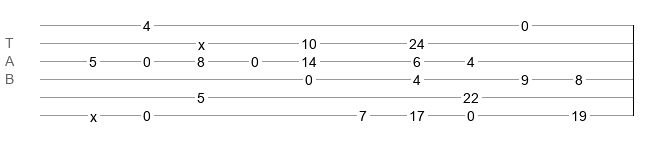0: (143, 108, 151, 118), (143, 54, 151, 64), (251, 54, 259, 64), (305, 72, 313, 82), (467, 108, 475, 118), (521, 18, 529, 28)
10: (301, 36, 317, 46)
14: (301, 54, 317, 64)
17: (409, 108, 425, 118)
19: (571, 108, 587, 118)
22: (463, 90, 479, 100)
24: (409, 36, 425, 46)
4: (143, 18, 151, 28), (413, 72, 421, 82), (467, 54, 475, 64)
5: (89, 54, 97, 64), (197, 90, 205, 100)
6: (413, 54, 421, 64)
7: (359, 108, 367, 118)
8: (197, 54, 205, 64), (575, 72, 583, 82)
9: (521, 72, 529, 82)
x: (90, 109, 97, 117), (198, 37, 205, 45)
